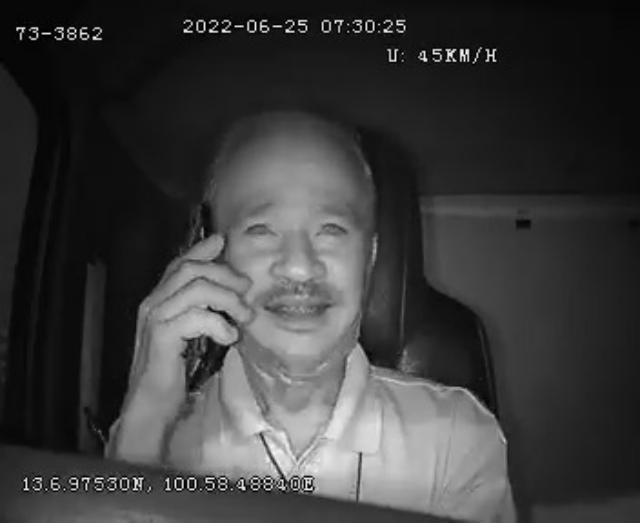PhoneUse: (174, 197, 233, 387)
SafeDriving: (306, 206, 358, 246), (236, 208, 283, 246)
